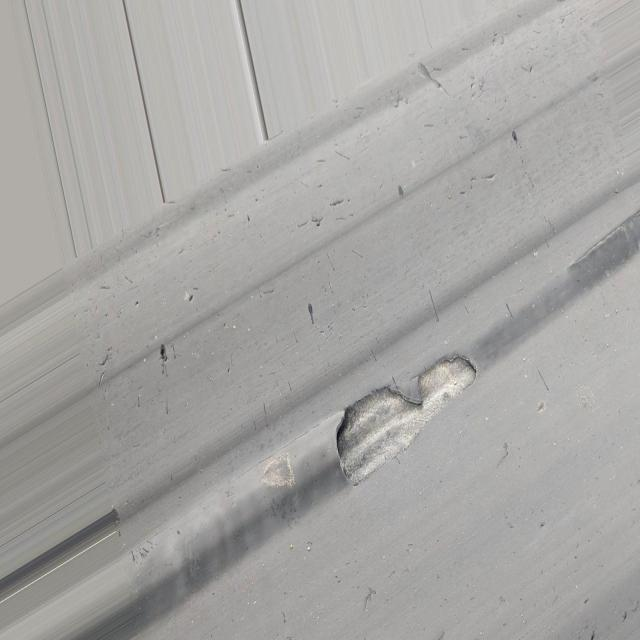Tear: (314, 334, 486, 488)
impact damage: (129, 200, 640, 632)
